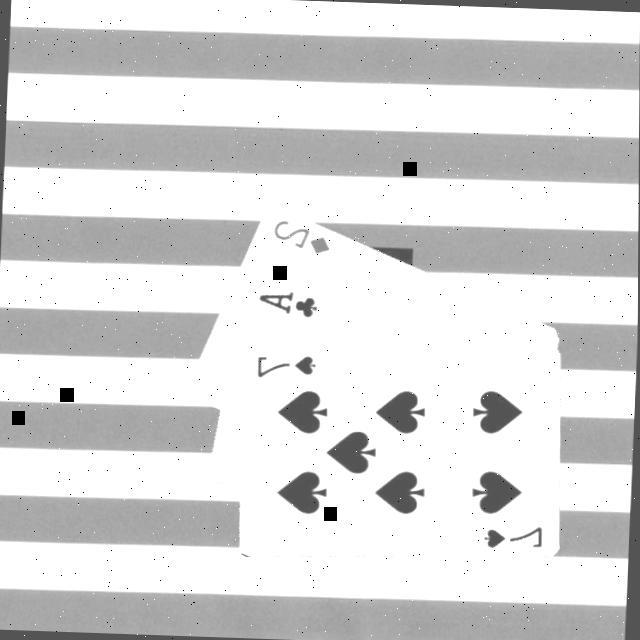2D: (270, 216, 336, 258)
7S: (481, 520, 548, 552), (256, 350, 320, 382)
AC: (256, 287, 322, 321)
